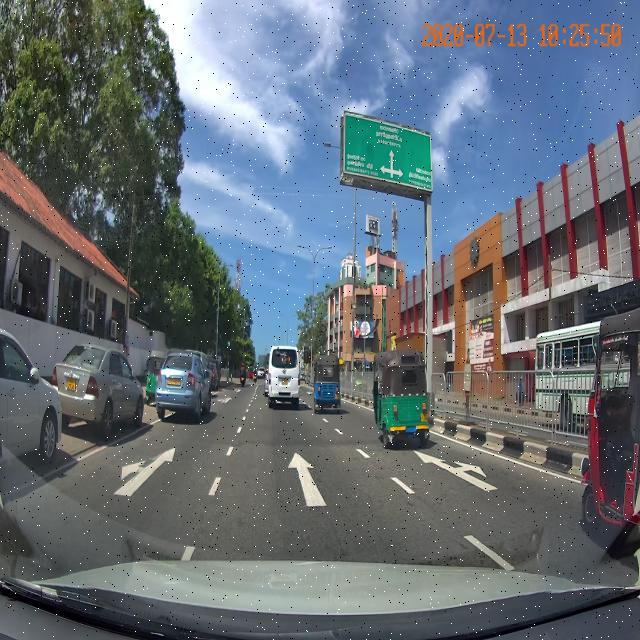forward: (199, 446, 444, 519)
